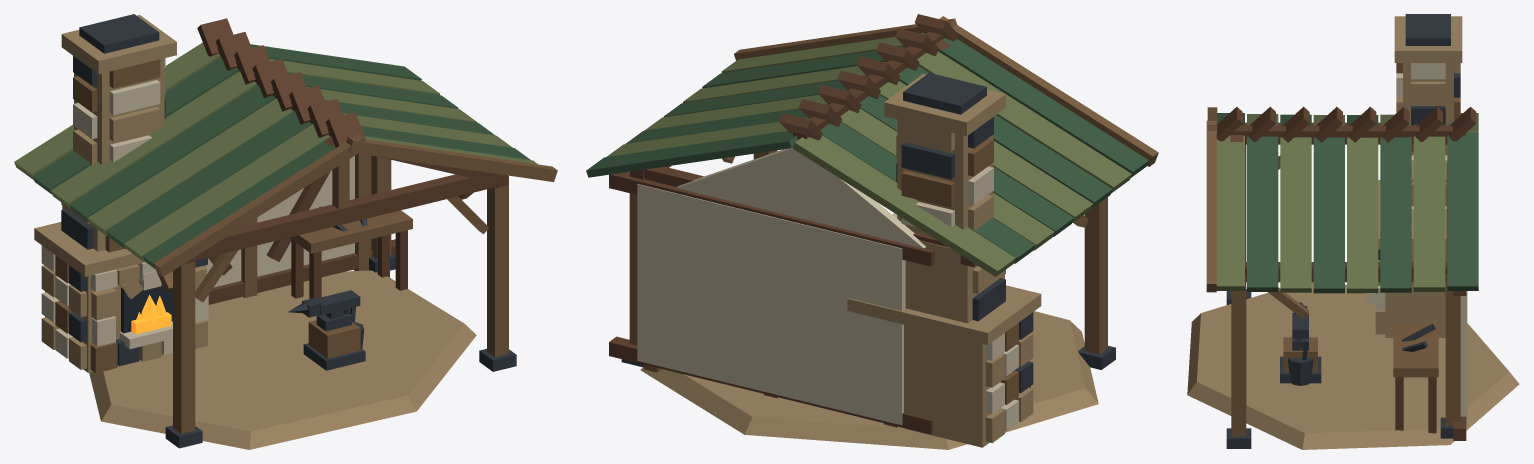
File: blacksmith-forge-09fa85.glb
The picture shows the model from 3 angles, left to right: view 1: azimuth 30°, elevation 25°; view 2: azimuth 150°, elevation 25°; view 3: azimuth 270°, elevation 25°; orthographic projection. The views are drawn at different scales.
Parts seen in each view (by area): view 1: smithy-shell, anvil-mesh, fire-mesh; view 2: smithy-shell; view 3: smithy-shell, anvil-mesh.
Boxes of the visible parts, x1,y1,x2,y2 form: smithy-shell: (14, 14, 557, 449); anvil-mesh: (288, 290, 360, 331); fire-mesh: (131, 294, 171, 334); smithy-shell: (586, 14, 1158, 449); smithy-shell: (1187, 14, 1519, 449); anvil-mesh: (1292, 302, 1308, 350).
Size of the model in its own units: 5.08 by 3.96 by 4.03.
